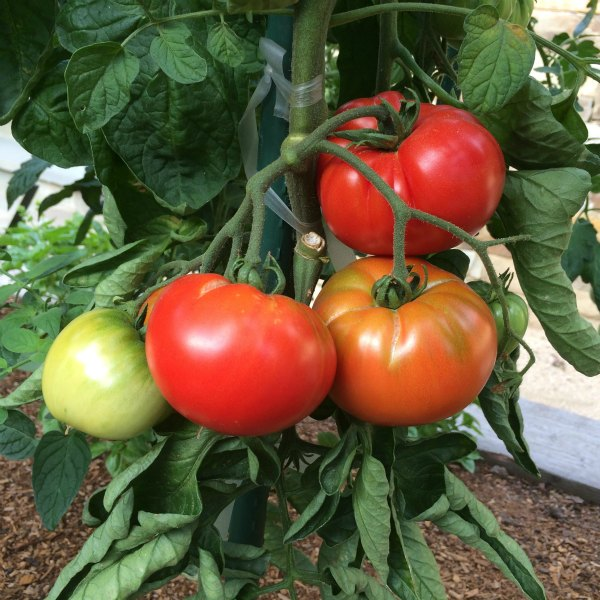tomato: (312, 254, 497, 429), (144, 271, 332, 436), (319, 89, 505, 255), (42, 305, 175, 440)
